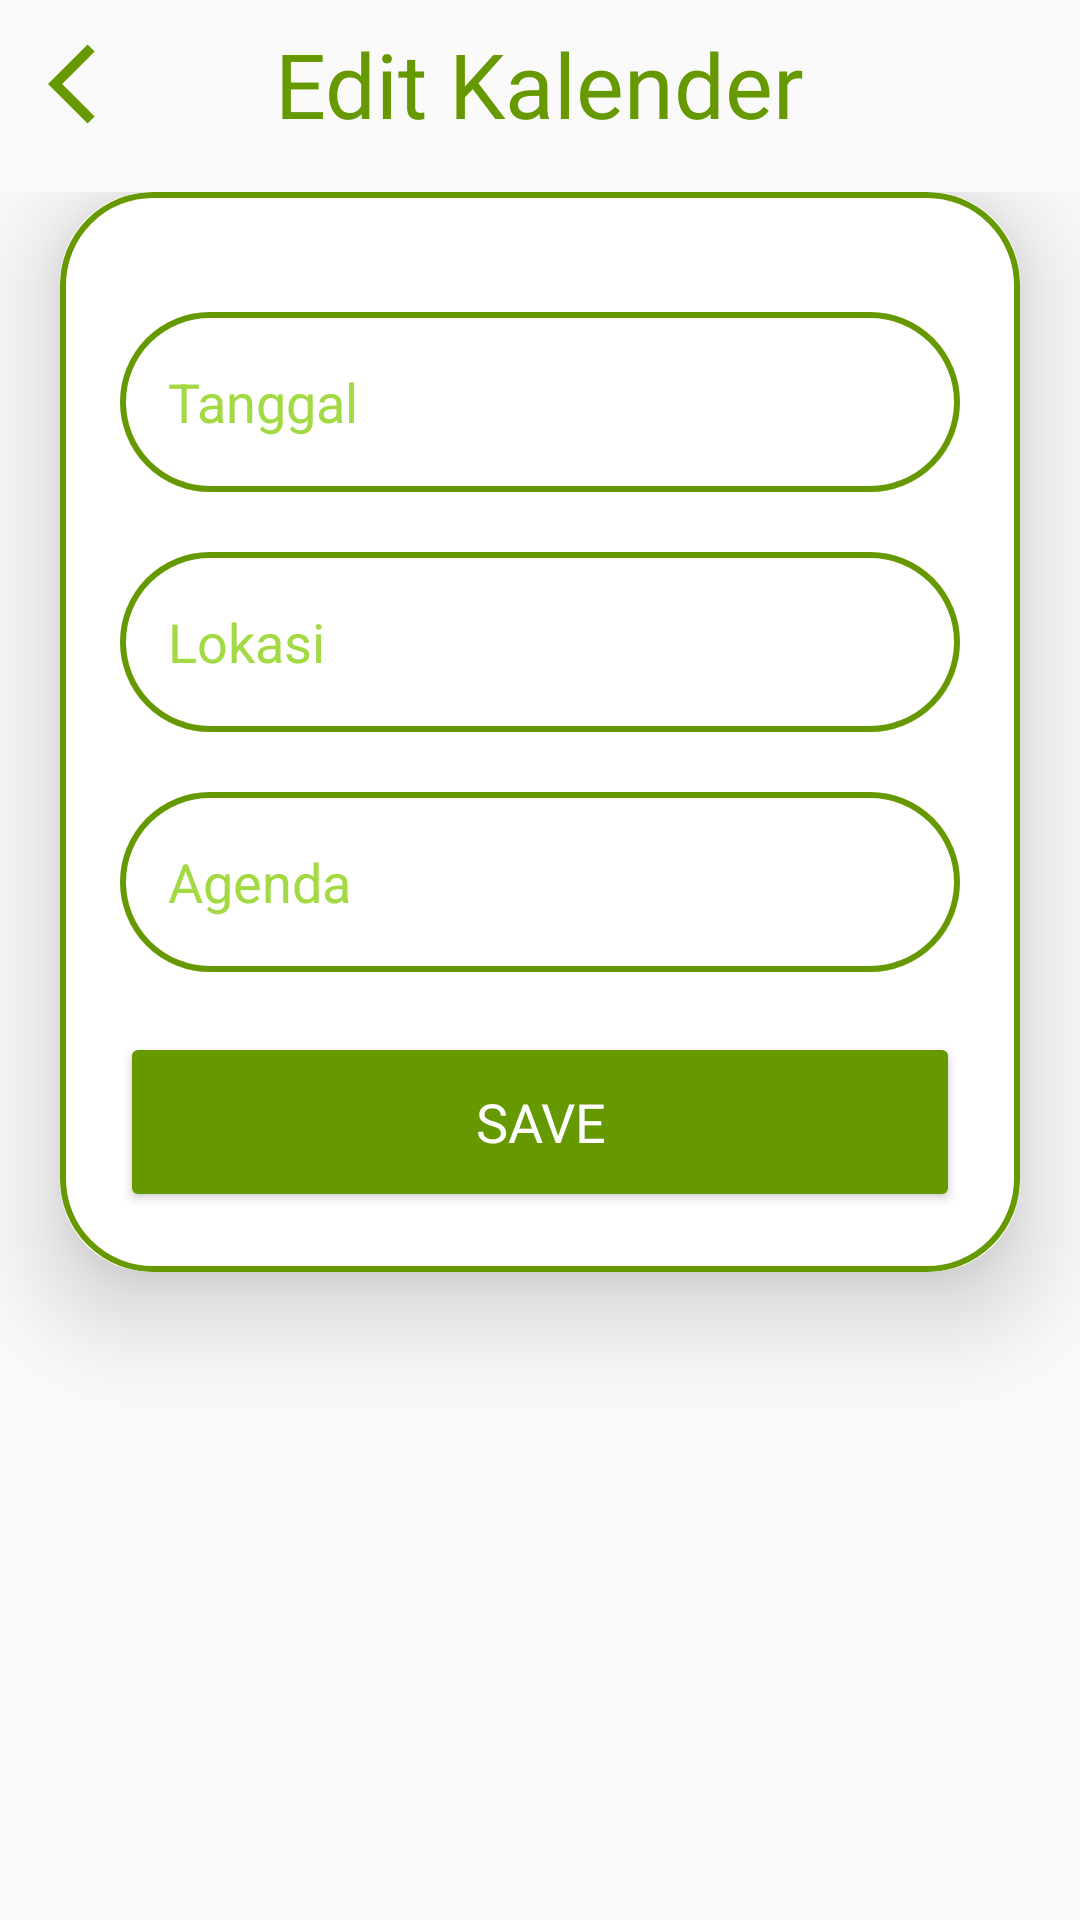

Point at icon controls on the screen. Image size 1080 x 1920, points as [x,y].
backicon: [71,84]
